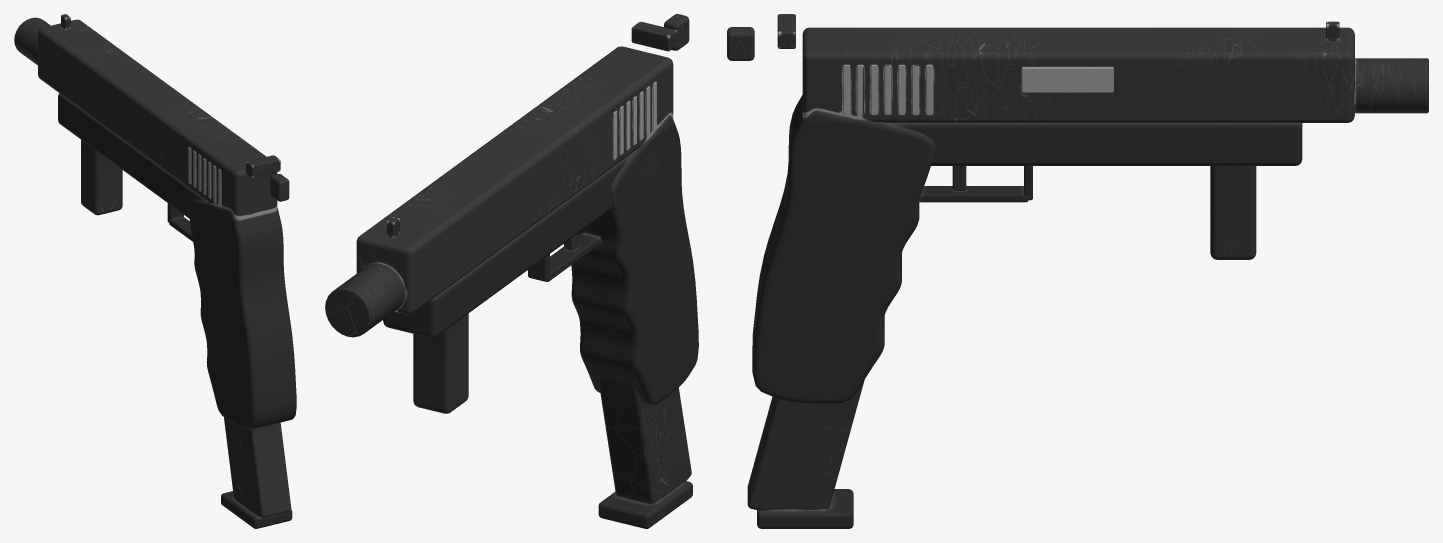
3 renders of one model, left to right at view 1: azimuth 30°, elevation 25°; view 2: azimuth 150°, elevation 25°; view 3: azimuth 270°, elevation 25°, orthographic. The views are drawn at different scales.
Visible parts, largest first — view 1: Frame, Mag_body; view 2: Frame, Mag_body; view 3: Frame, Mag_body.
Part boxes in pixels (left/top/right/bottom): Frame: left=14, top=14, right=296, bottom=429; Mag_body: left=221, top=417, right=292, bottom=528; Frame: left=325, top=14, right=698, bottom=413; Mag_body: left=598, top=378, right=692, bottom=528; Frame: left=727, top=14, right=1428, bottom=403; Mag_body: left=747, top=380, right=864, bottom=528.
Size of the model in its own units: 0.0317 by 0.237 by 0.305.
4 materials, 4 textured.
